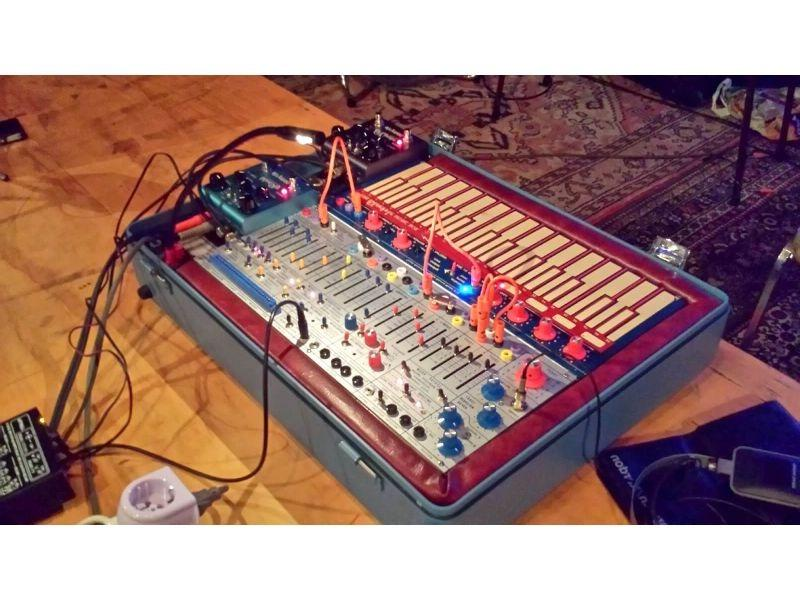synthesizer: (117, 112, 734, 479)
